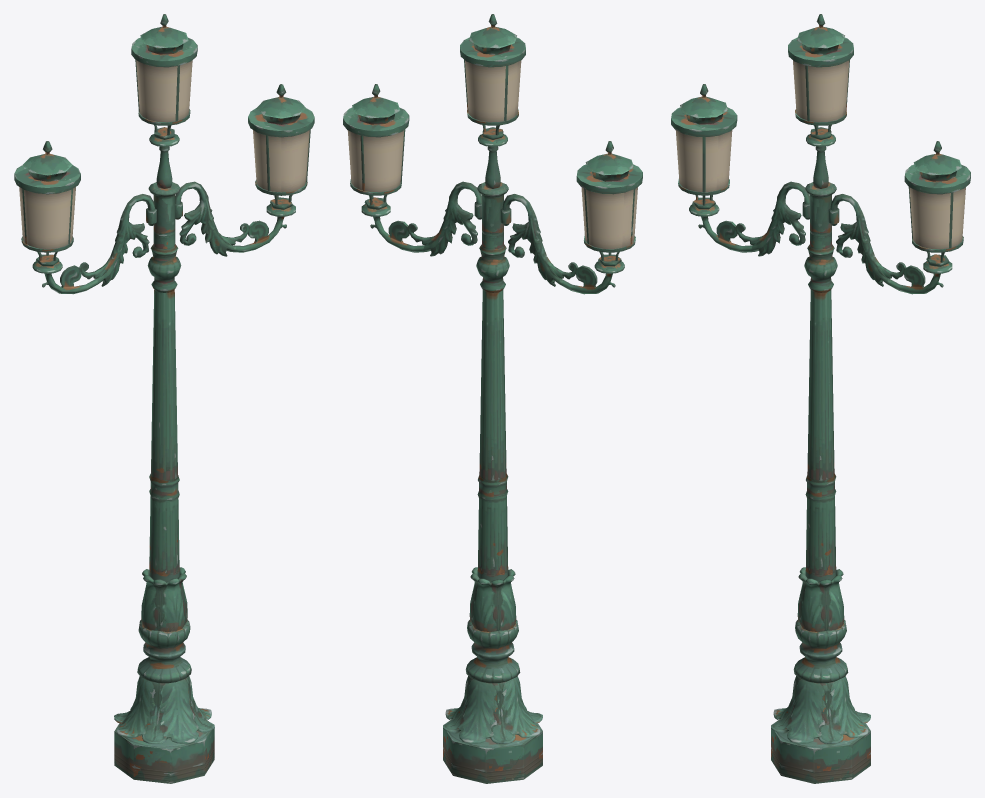
Rendered from Light_Street_1.glb.
3 views of the same model, side by side, from view 1: azimuth 30°, elevation 25°; view 2: azimuth 150°, elevation 25°; view 3: azimuth 330°, elevation 25° (orthographic).
Visible parts, largest first — view 1: StreetLamp_0_LOD0; view 2: StreetLamp_0_LOD0; view 3: StreetLamp_0_LOD0.
Part boxes in pixels (x1=…): StreetLamp_0_LOD0: x1=14, y1=14, x2=314, y2=783; StreetLamp_0_LOD0: x1=343, y1=14, x2=642, y2=783; StreetLamp_0_LOD0: x1=671, y1=14, x2=970, y2=783.
Size of the model in its own units: 1.64 by 4.04 by 0.5279.
1 material, 1 textured.
